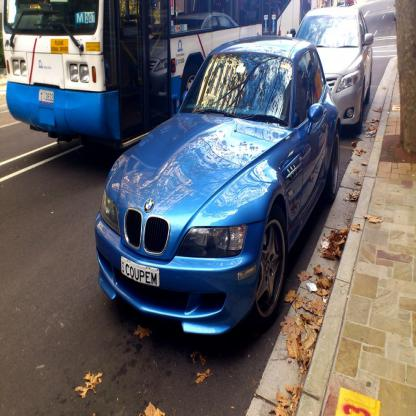Bus: (1, 0, 319, 156)
